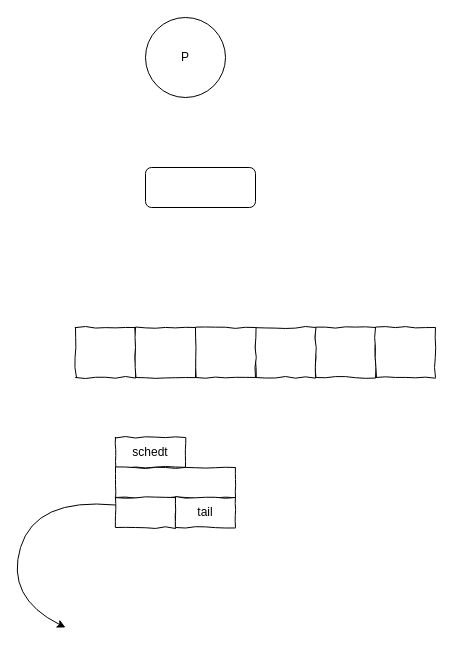
Image size: 454x645. Some labels were removed from this diagram. Here are the shapes that lost their labels. From the top down, the centre of each, then its label:
At point (175, 482): "global run queue".
At point (145, 512): "head".
